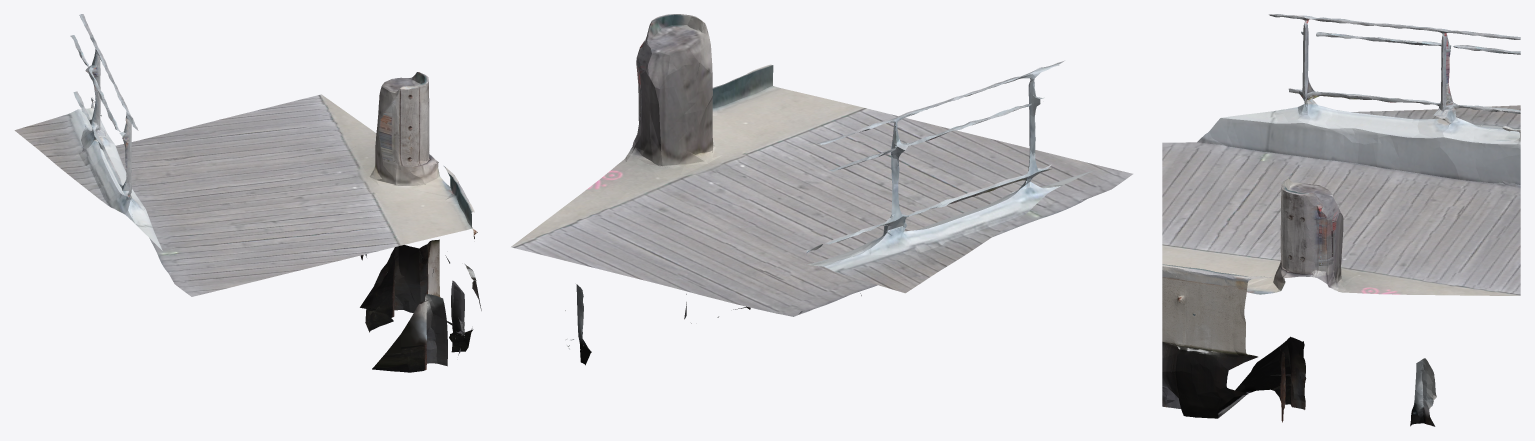
The picture shows the model from 3 angles, left to right: view 1: azimuth 30°, elevation 25°; view 2: azimuth 150°, elevation 25°; view 3: azimuth 270°, elevation 25°; orthographic projection. The views are drawn at different scales.
Size of the model in its own units: 4.18 by 3.49 by 4.18.
4 materials, 4 textured.
